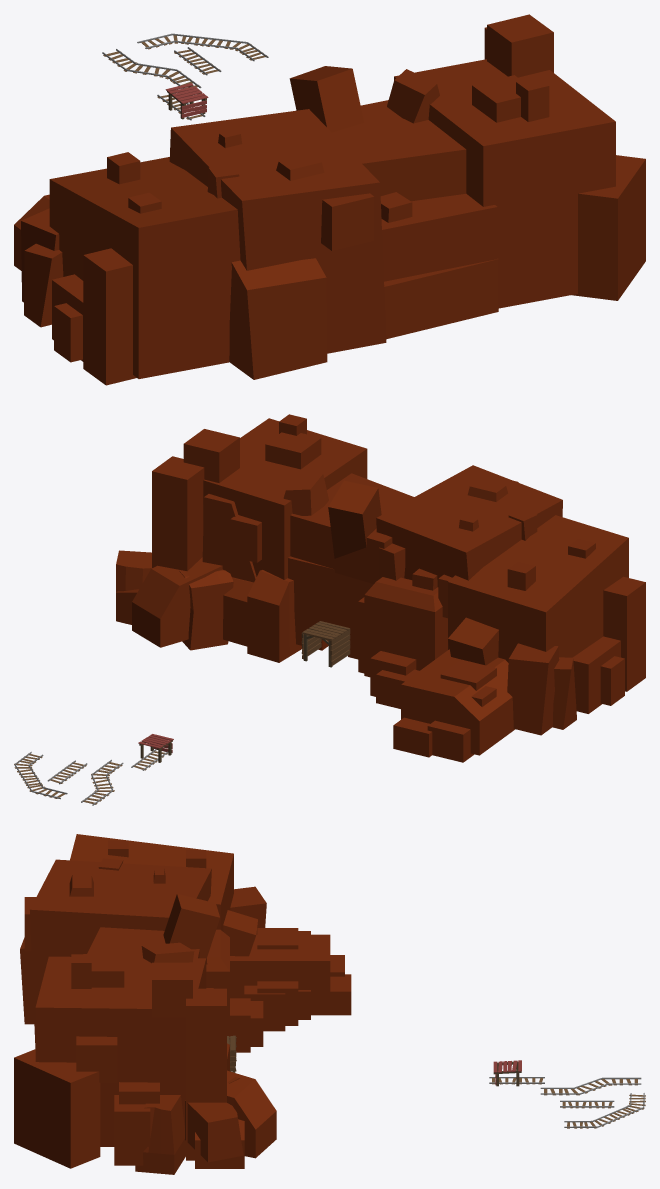
The model's file is Goldmine.fbx.
3 renders of one model, top to bottom at view 1: azimuth 30°, elevation 25°; view 2: azimuth 150°, elevation 25°; view 3: azimuth 270°, elevation 25°, orthographic. The views are drawn at different scales.
Parts seen in each view (by area): view 1: Cube.009, Cube.000, Cube.003, Cube.001; view 2: Cube.009, Cube.000, Cube.003, Cube.001; view 3: Cube.009, Cube.000, Cube.003, Cube.001.
Part boxes in pixels (left/top/right/bottom): Cube.009: left=14, top=14, right=645, bottom=385; Cube.000: left=157, top=83, right=208, bottom=120; Cube.003: left=137, top=33, right=268, bottom=61; Cube.001: left=102, top=49, right=201, bottom=88; Cube.009: left=116, top=414, right=645, bottom=762; Cube.000: left=131, top=734, right=173, bottom=770; Cube.003: left=14, top=751, right=67, bottom=799; Cube.001: left=81, top=759, right=123, bottom=805; Cube.009: left=14, top=834, right=351, bottom=1174; Cube.000: left=489, top=1060, right=544, bottom=1086; Cube.003: left=564, top=1093, right=645, bottom=1128; Cube.001: left=540, top=1077, right=641, bottom=1095.
Size of the model in its own units: 2644 by 980 by 3083.
